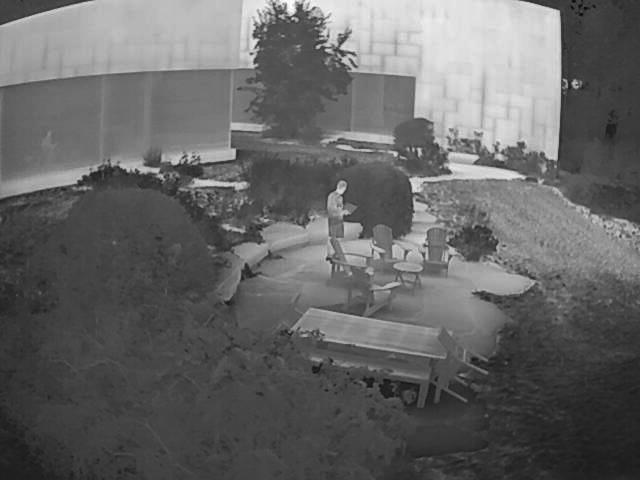person: (324, 180, 352, 268)
